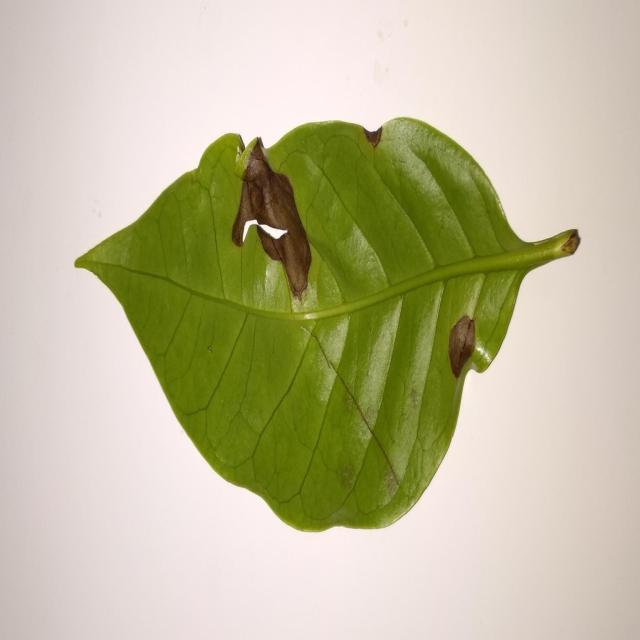Enfermedad-Antracnosis: (72, 118, 581, 536)
